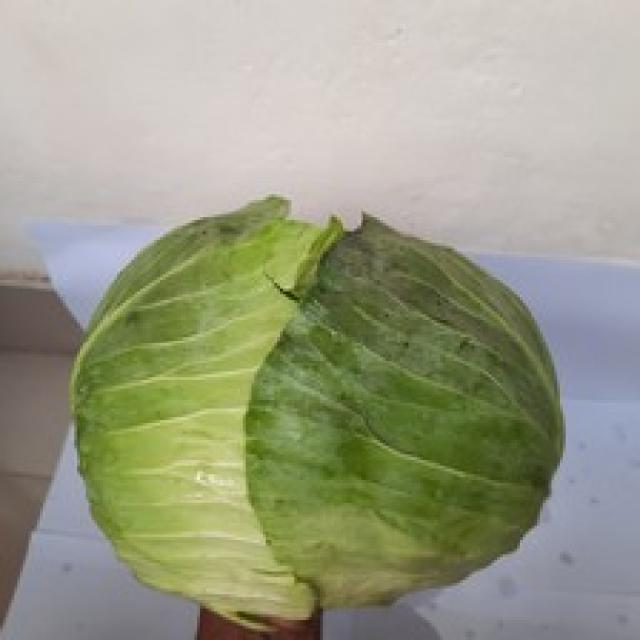organik: (61, 178, 579, 637)
